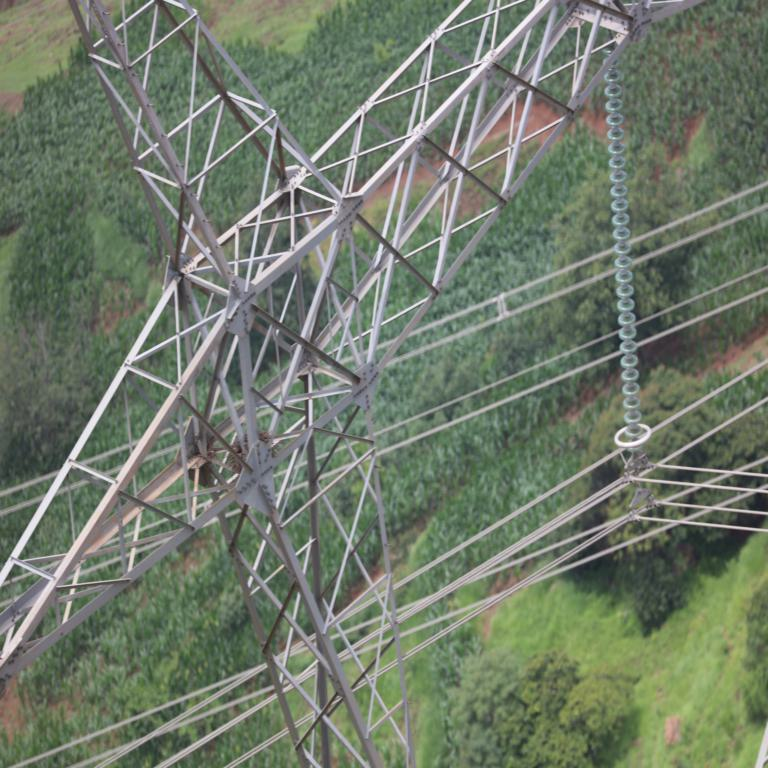nest: (228, 434, 270, 470)
